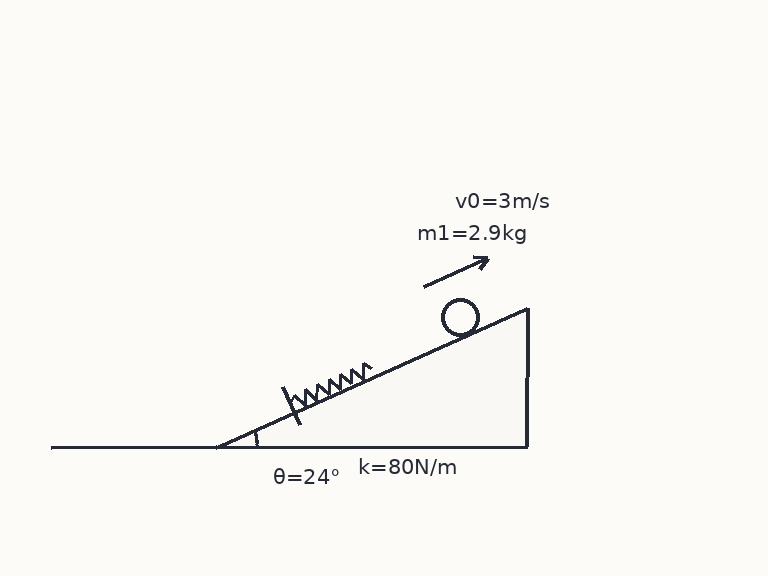ball: (439, 296, 481, 338)
ramp: (215, 306, 529, 448)
spring: (289, 362, 373, 407)
